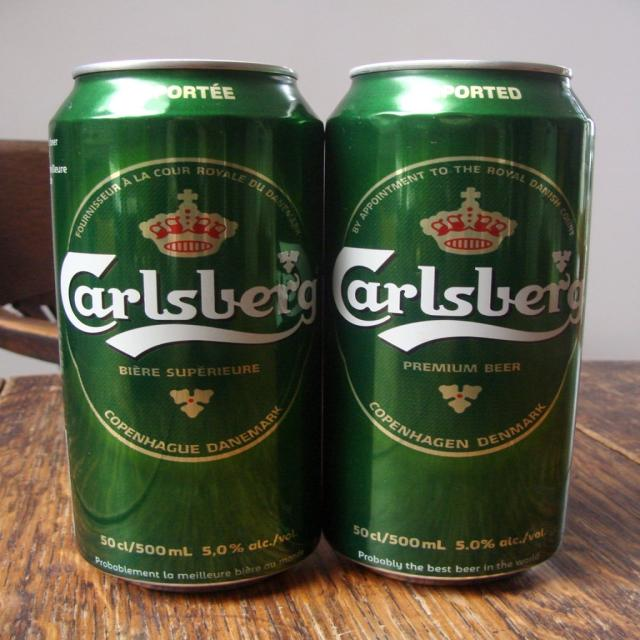carlsberg: (57, 155, 324, 463), (327, 157, 590, 456)
